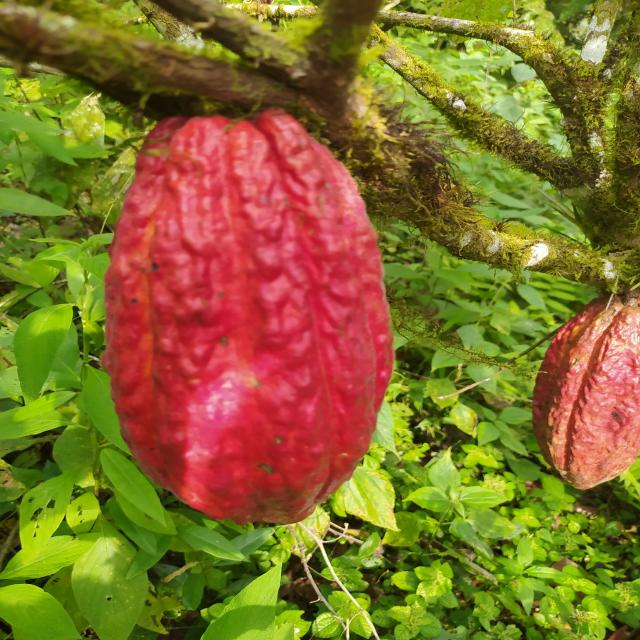Sana: (100, 111, 395, 523), (531, 295, 640, 490)
